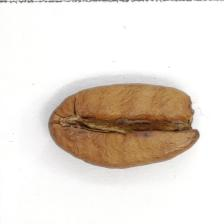NG: (119, 93, 202, 146)
